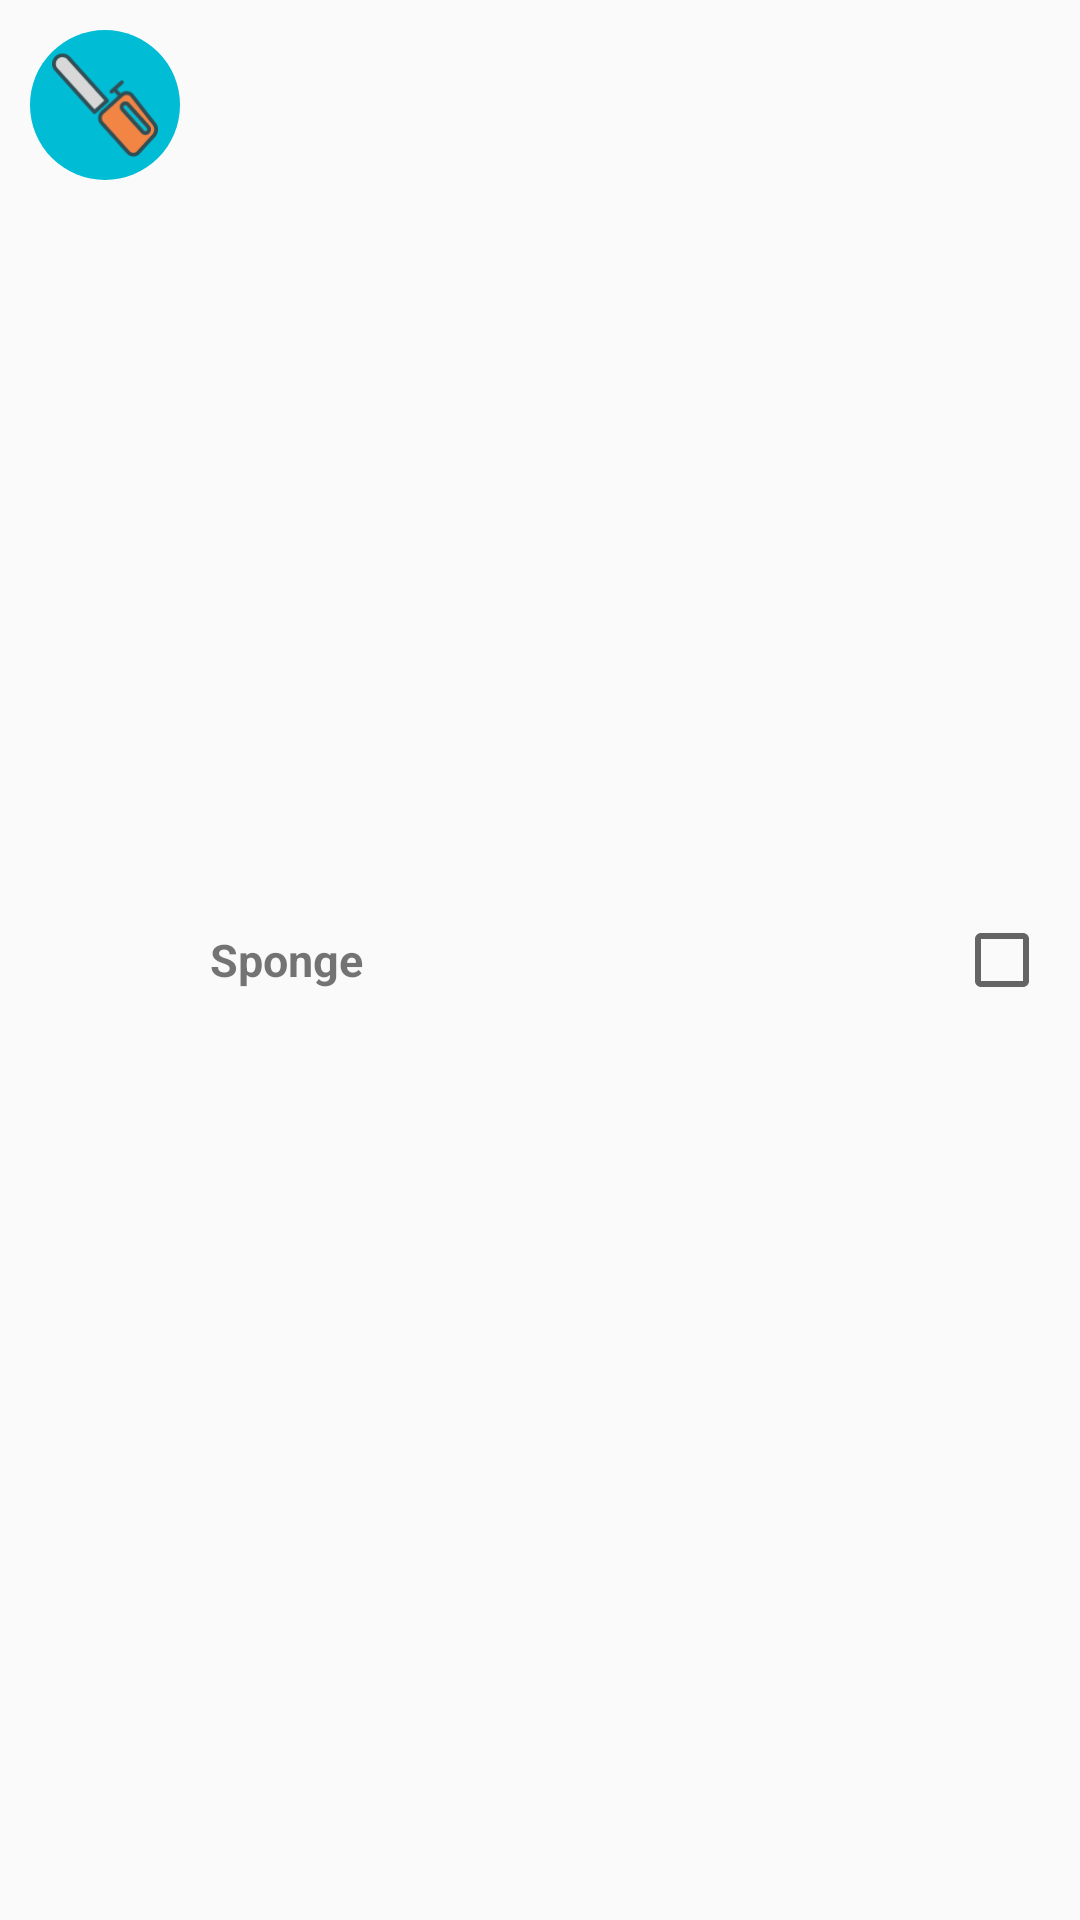

Screen size 1080px x 1920px. Icon name, then its box in pixels as (x1, y1, x2, y2):
circle chainsaw: (30, 30, 180, 180)
